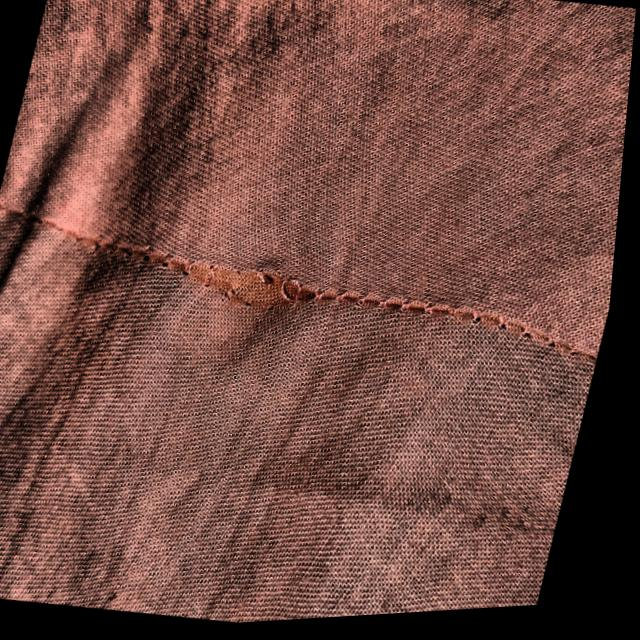seam: (67, 210, 393, 375)
